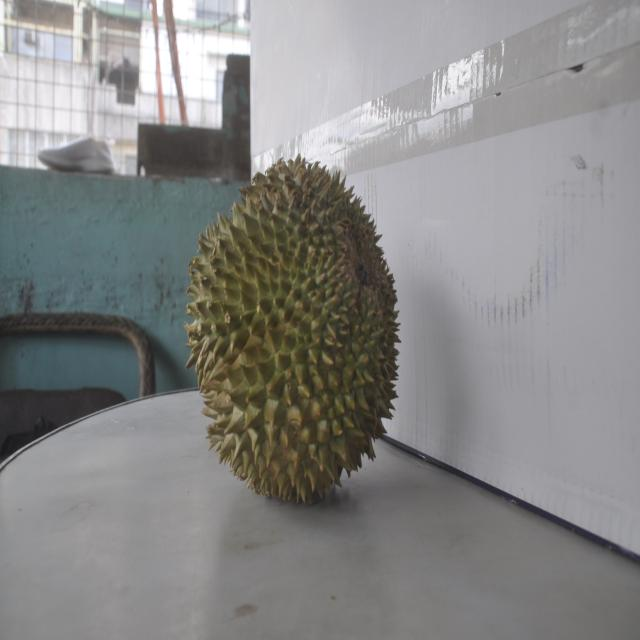mature: (186, 155, 395, 505)
